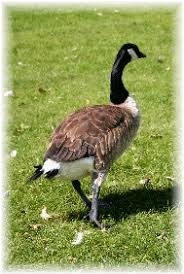goose: (23, 41, 149, 232)
